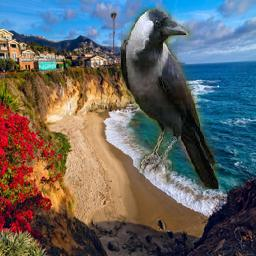Crow: (121, 7, 219, 189)
